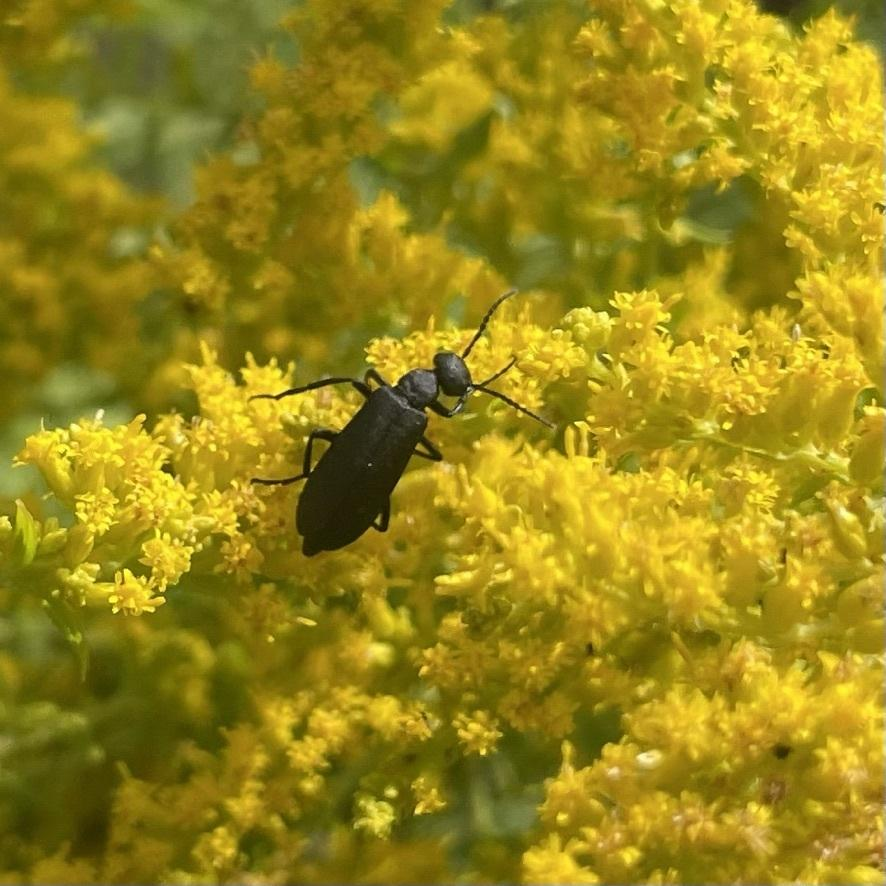blister_beetle: (181, 242, 585, 598)
